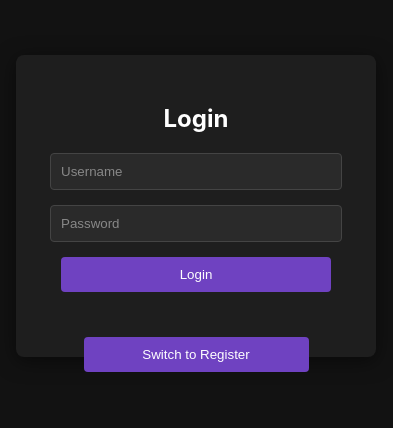
Scenario: Login Page Tests › should display error alert for incorrect username and password
Step 1. Type "invalidUsername" into the field with test id "username-input" → (196, 173), box x1=50 y1=154 x2=342 y2=191
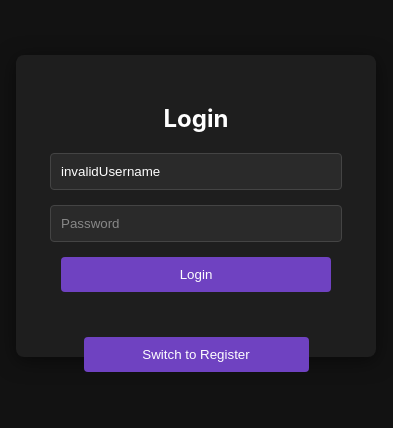
Step 2. Type "invalidPassword" into the password field with test id "password-input" → (196, 225), box x1=50 y1=206 x2=342 y2=243
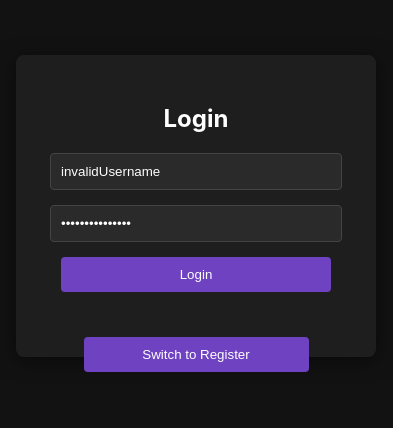
Step 3. Click the button with test id "auth-submit-button" → click(196, 276), box x1=61 y1=258 x2=331 y2=293
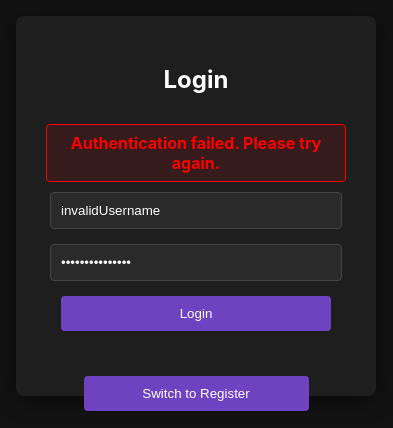
Check: the text "Authentication failed. Please try again." is shown, box x1=46 y1=124 x2=346 y2=182
